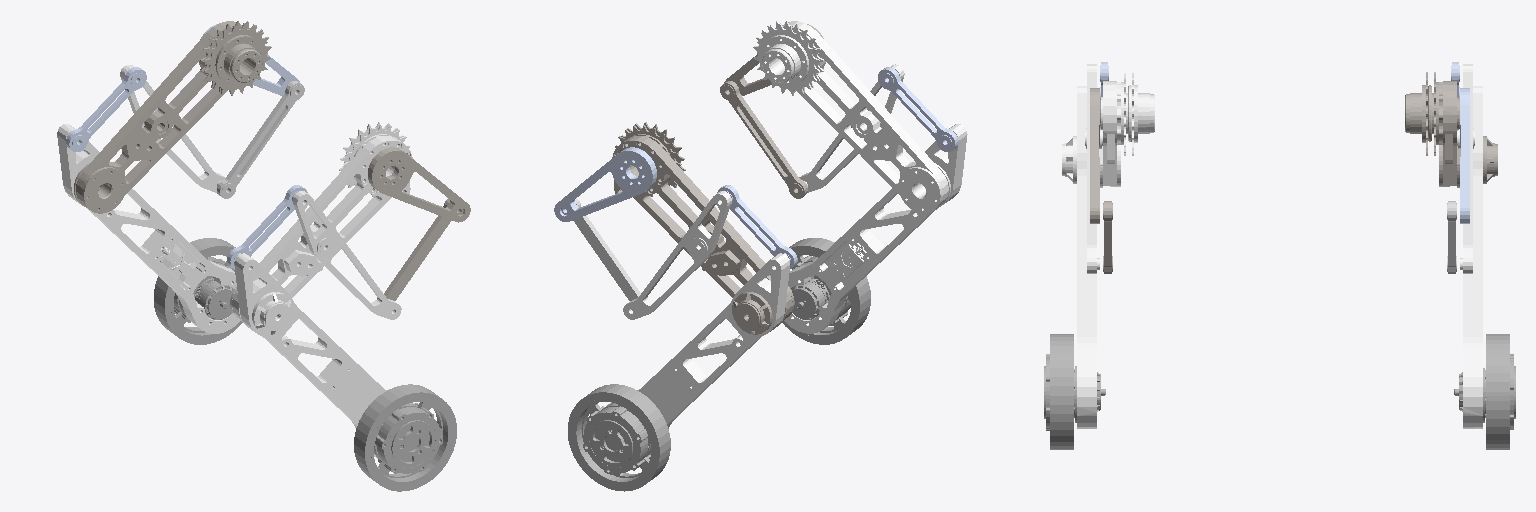
robot.urdf — chuanliantui:
<?xml version='1.0' encoding='utf-8'?>
<robot name="chuanliantui">
  <link name="base_link">
    <inertial>
      <origin xyz="-0.00602877749978922 0.000229808244210893 -0.00910941306824483" rpy="0 0 0" />
      <mass value="9.25503219540507" />
      <inertia ixx="0.018031994741708" ixy="-0.000148435003784316" ixz="3.87836364949803E-05" iyy="0.0362971613813806" iyz="-3.81310518523936E-06" izz="0.04171554748108" />
    </inertial>
    <visual>
      <origin xyz="0 0 0" rpy="0 0 0" />
      <geometry>
        <mesh filename="../meshes/base_link.STL" />
      </geometry>
      <material name="">
        <color rgba="0.866666666666667 0.909803921568627 1 1" />
      </material>
    </visual>
    <collision>
      <origin xyz="0 0 0" rpy="0 0 0" />
      <geometry>
        <mesh filename="../meshes/base_link.STL" />
      </geometry>
    </collision>
  </link>
  <link name="rf0">
    <inertial>
      <origin xyz="-0.0601788822901044 -0.00591211161008393 -0.0476542657670917" rpy="0 0 0" />
      <mass value="0.754587100528089" />
      <inertia ixx="0.000716730172580927" ixy="3.20162224981594E-06" ixz="-0.000594610165872476" iyy="0.00166529768402145" iyz="2.11402979826932E-06" izz="0.00106414599373875" />
    </inertial>
    <visual>
      <origin xyz="0 0 0" rpy="0 0 0" />
      <geometry>
        <mesh filename="../meshes/rf0.STL" />
      </geometry>
      <material name="">
        <color rgba="0.776470588235294 0.756862745098039 0.737254901960784 1" />
      </material>
    </visual>
    <collision>
      <origin xyz="0 0 0" rpy="0 0 0" />
      <geometry>
        <mesh filename="../meshes/rf0.STL" />
      </geometry>
    </collision>
  </link>
  <link name="rf1">
    <inertial>
      <origin xyz="0.0781468381163341 0.0103199473600941 -0.0861497864597749" rpy="0 0 0" />
      <mass value="0.414858419056494" />
      <inertia ixx="0.00263411828738831" ixy="-2.34873576369954E-06" ixz="0.00206928433761022" iyy="0.00449630400849374" iyz="3.25463260232103E-06" izz="0.00188913994404996" />
    </inertial>
    <visual>
      <origin xyz="0 0 0" rpy="0 0 0" />
      <geometry>
        <mesh filename="../meshes/rf1.STL" />
      </geometry>
      <material name="">
        <color rgba="1 1 1 1" />
      </material>
    </visual>
    <collision>
      <origin xyz="0 0 0" rpy="0 0 0" />
      <geometry>
        <mesh filename="../meshes/rf1.STL" />
      </geometry>
    </collision>
  </link>
  <link name="rfwheel">
    <inertial>
      <origin xyz="0.00026594712451275 0.00475914549240675 -0.000406120388827175" rpy="0 0 0" />
      <mass value="0.344781890891785" />
      <inertia ixx="0.000322531613191001" ixy="-3.23871644327253E-08" ixz="-2.34585830896993E-06" iyy="0.000620367874493321" iyz="8.00535601875773E-08" izz="0.000322776964245954" />
    </inertial>
    <visual>
      <origin xyz="0 0 0" rpy="0 0 0" />
      <geometry>
        <mesh filename="../meshes/rfwheel.STL" />
      </geometry>
      <material name="">
        <color rgba="0.752941176470588 0.752941176470588 0.752941176470588 1" />
      </material>
    </visual>
    <collision>
      <origin xyz="0 0 0" rpy="0 0 0" />
      <geometry>
        <mesh filename="../meshes/rfwheel.STL" />
      </geometry>
    </collision>
  </link>
  <link name="lf0">
    <inertial>
      <origin xyz="-0.0601799237964787 0.00591211160955873 -0.0476541773385163" rpy="0 0 0" />
      <mass value="0.754587100528089" />
      <inertia ixx="0.000716730172361521" ixy="-3.1999247832951E-06" ixz="-0.000594610167155209" iyy="0.0016652976840214" iyz="-2.11417392810106E-06" izz="0.00106414599395821" />
    </inertial>
    <visual>
      <origin xyz="0 0 0" rpy="0 0 0" />
      <geometry>
        <mesh filename="../meshes/lf0.STL" />
      </geometry>
      <material name="">
        <color rgba="1 1 1 1" />
      </material>
    </visual>
    <collision>
      <origin xyz="0 0 0" rpy="0 0 0" />
      <geometry>
        <mesh filename="../meshes/lf0.STL" />
      </geometry>
    </collision>
  </link>
  <link name="lf1">
    <inertial>
      <origin xyz="0.0781422112156481 -0.0103199473609228 -0.0861551316847515" rpy="0 0 0" />
      <mass value="0.41485841896248" />
      <inertia ixx="0.00263502302954763" ixy="2.36139743274436E-06" ixz="0.0020692013423577" iyy="0.00449643859324459" iyz="-3.24221462326294E-06" izz="0.00188836978664283" />
    </inertial>
    <visual>
      <origin xyz="0 0 0" rpy="0 0 0" />
      <geometry>
        <mesh filename="../meshes/lf1.STL" />
      </geometry>
      <material name="">
        <color rgba="1 1 1 1" />
      </material>
    </visual>
    <collision>
      <origin xyz="0 0 0" rpy="0 0 0" />
      <geometry>
        <mesh filename="../meshes/lf1.STL" />
      </geometry>
    </collision>
  </link>
  <link name="lfwheel">
    <inertial>
      <origin xyz="0.000400666391116467 -0.0047591454916687 -0.000274095029655363" rpy="0 0 0" />
      <mass value="0.344781890909485" />
      <inertia ixx="0.000322682127933985" ixy="7.93831293033411E-08" ixz="-2.3488987779168E-06" iyy="0.000620367874493372" iyz="-3.39973516878896E-08" izz="0.000322626449503125" />
    </inertial>
    <visual>
      <origin xyz="0 0 0" rpy="0 0 0" />
      <geometry>
        <mesh filename="../meshes/lfwheel.STL" />
      </geometry>
      <material name="">
        <color rgba="0.752941176470588 0.752941176470588 0.752941176470588 1" />
      </material>
    </visual>
    <collision>
      <origin xyz="0 0 0" rpy="0 0 0" />
      <geometry>
        <mesh filename="../meshes/lfwheel.STL" />
      </geometry>
    </collision>
  </link>
  <link name="rf00">
    <inertial>
      <origin xyz="0.0287626107145485 0.00217309925782544 -0.022607956404431" rpy="0 0 0" />
      <mass value="0.108755464967073" />
      <inertia ixx="9.07337436191255E-05" ixy="-6.96415763279463E-08" ixz="8.82820570960974E-05" iyy="0.000222724145523073" iyz="5.4739597109121E-08" izz="0.000133657810110782" />
    </inertial>
    <visual>
      <origin xyz="0 0 0" rpy="0 0 0" />
      <geometry>
        <mesh filename="../meshes/rf00.STL" />
      </geometry>
      <material name="">
        <color rgba="0.866666666666667 0.909803921568627 1 1" />
      </material>
    </visual>
    <collision>
      <origin xyz="0 0 0" rpy="0 0 0" />
      <geometry>
        <mesh filename="../meshes/rf00.STL" />
      </geometry>
    </collision>
  </link>
  <link name="rf01">
    <inertial>
      <origin xyz="-0.0445776517081272 0.000189202771807839 -0.0506861220472558" rpy="0 0 0" />
      <mass value="0.0527615983680123" />
      <inertia ixx="3.44876859008394E-05" ixy="3.91702308347607E-17" ixz="-2.90894186837554E-05" iyy="6.10850450919855E-05" iyz="4.59321589444022E-17" izz="2.69958364471129E-05" />
    </inertial>
    <visual>
      <origin xyz="0 0 0" rpy="0 0 0" />
      <geometry>
        <mesh filename="../meshes/rf01.STL" />
      </geometry>
      <material name="">
        <color rgba="0.894117647058823 0.894117647058823 0.894117647058823 1" />
      </material>
    </visual>
    <collision>
      <origin xyz="0 0 0" rpy="0 0 0" />
      <geometry>
        <mesh filename="../meshes/rf01.STL" />
      </geometry>
    </collision>
  </link>
  <link name="rf02">
    <inertial>
      <origin xyz="-0.0709050947179725 -0.000678963352972933 0.0845120654337574" rpy="0 0 0" />
      <mass value="0.131348519233667" />
      <inertia ixx="0.000258172786754835" ixy="-2.36138957013143E-16" ixz="0.000172494829510738" iyy="0.000390303775067041" iyz="3.50688601948444E-16" izz="0.000133891975919128" />
    </inertial>
    <visual>
      <origin xyz="0 0 0" rpy="0 0 0" />
      <geometry>
        <mesh filename="../meshes/rf02.STL" />
      </geometry>
      <material name="">
        <color rgba="1 1 1 1" />
      </material>
    </visual>
    <collision>
      <origin xyz="0 0 0" rpy="0 0 0" />
      <geometry>
        <mesh filename="../meshes/rf02.STL" />
      </geometry>
    </collision>
  </link>
  <link name="rf03">
    <inertial>
      <origin xyz="-0.0379735551587733 2.94209101525666E-14 -0.0298479330708672" rpy="0 0 0" />
      <mass value="0.0511656410370527" />
      <inertia ixx="1.5644943542751E-05" ixy="2.37509234944243E-17" ixz="-1.77353362160889E-05" iyy="3.9552054508504E-05" iyz="2.05081923242961E-17" izz="2.42681312666208E-05" />
    </inertial>
    <visual>
      <origin xyz="0 0 0" rpy="0 0 0" />
      <geometry>
        <mesh filename="../meshes/rf03.STL" />
      </geometry>
      <material name="">
        <color rgba="0.866666666666667 0.909803921568627 1 1" />
      </material>
    </visual>
    <collision>
      <origin xyz="0 0 0" rpy="0 0 0" />
      <geometry>
        <mesh filename="../meshes/rf03.STL" />
      </geometry>
    </collision>
  </link>
  <link name="lf00">
    <inertial>
      <origin xyz="0.0287626107145481 -0.00217309925803646 -0.0226079564044105" rpy="0 0 0" />
      <mass value="0.108755464967073" />
      <inertia ixx="9.0733743619124E-05" ixy="6.96415771802879E-08" ixz="8.82820570960962E-05" iyy="0.000222724145523072" iyz="-5.47395979690492E-08" izz="0.000133657810110784" />
    </inertial>
    <visual>
      <origin xyz="0 0 0" rpy="0 0 0" />
      <geometry>
        <mesh filename="../meshes/lf00.STL" />
      </geometry>
      <material name="">
        <color rgba="0.776470588235294 0.756862745098039 0.737254901960784 1" />
      </material>
    </visual>
    <collision>
      <origin xyz="0 0 0" rpy="0 0 0" />
      <geometry>
        <mesh filename="../meshes/lf00.STL" />
      </geometry>
    </collision>
  </link>
  <link name="lf01">
    <inertial>
      <origin xyz="-0.0445776517081262 -0.000189202772297906 -0.0506861220472553" rpy="0 0 0" />
      <mass value="0.0527615983680122" />
      <inertia ixx="3.44876859008394E-05" ixy="-3.20402028070599E-16" ixz="-2.90894186837554E-05" iyy="6.10850450919855E-05" iyz="-3.75471789456257E-16" izz="2.69958364471129E-05" />
    </inertial>
    <visual>
      <origin xyz="0 0 0" rpy="0 0 0" />
      <geometry>
        <mesh filename="../meshes/lf01.STL" />
      </geometry>
      <material name="">
        <color rgba="0.776470588235294 0.756862745098039 0.737254901960784 1" />
      </material>
    </visual>
    <collision>
      <origin xyz="0 0 0" rpy="0 0 0" />
      <geometry>
        <mesh filename="../meshes/lf01.STL" />
      </geometry>
    </collision>
  </link>
  <link name="lf02">
    <inertial>
      <origin xyz="-0.0709050947179725 0.000678963353785006 0.084512065433751" rpy="0 0 0" />
      <mass value="0.131348519233667" />
      <inertia ixx="0.000258172786754835" ixy="1.89986445238845E-15" ixz="0.000172494829510738" iyy="0.000390303775067041" iyz="-2.82411420882232E-15" izz="0.000133891975919128" />
    </inertial>
    <visual>
      <origin xyz="0 0 0" rpy="0 0 0" />
      <geometry>
        <mesh filename="../meshes/lf02.STL" />
      </geometry>
      <material name="">
        <color rgba="1 1 1 1" />
      </material>
    </visual>
    <collision>
      <origin xyz="0 0 0" rpy="0 0 0" />
      <geometry>
        <mesh filename="../meshes/lf02.STL" />
      </geometry>
    </collision>
  </link>
  <link name="lf03">
    <inertial>
      <origin xyz="-0.0379735551587734 1.06303854607859E-14 -0.0298479330708674" rpy="0 0 0" />
      <mass value="0.0511656410370527" />
      <inertia ixx="1.56449435427509E-05" ixy="3.51479994645997E-19" ixz="-1.77353362160888E-05" iyy="3.95520545085038E-05" iyz="2.64412501570851E-19" izz="2.42681312666207E-05" />
    </inertial>
    <visual>
      <origin xyz="0 0 0" rpy="0 0 0" />
      <geometry>
        <mesh filename="../meshes/lf03.STL" />
      </geometry>
      <material name="">
        <color rgba="0.866666666666667 0.909803921568627 1 1" />
      </material>
    </visual>
    <collision>
      <origin xyz="0 0 0" rpy="0 0 0" />
      <geometry>
        <mesh filename="../meshes/lf03.STL" />
      </geometry>
    </collision>
  </link>
  <joint name="lf0" type="revolute">
    <origin xyz="-0.0114000000001232 -0.178572975540517 0.0235199999997" rpy="0 0 0" />
    <parent link="base_link" />
    <child link="lf0" />
    <axis xyz="0 -1 0" />
    <limit lower="-100" upper="100" effort="40" velocity="16.8" />
  </joint>
  <joint name="lf1" type="revolute">
    <origin xyz="-0.165102413733819 -0.0115000000014318 -0.129773622047154" rpy="0 0 0" />
    <parent link="lf0" />
    <child link="lf1" />
    <axis xyz="0 -1 0" />
    <limit lower="-0.12" upper="0.77" effort="40" velocity="16.8" />
  </joint>
  <joint name="lfwheel" type="revolute">
    <origin xyz="0.165102413734413 -0.0280000000020695 -0.187726377952426" rpy="0 0 0" />
    <parent link="lf1" />
    <child link="lfwheel" />
    <axis xyz="0 -1 0" />
    <limit effort="3.9" velocity="58.4" />
  </joint>
  <joint name="rf0" type="revolute">
    <origin xyz="-0.0114000000001256 0.176932975540448 0.0235200000001889" rpy="0 0 0" />
    <parent link="base_link" />
    <child link="rf0" />
    <axis xyz="0 1 0" />
    <limit lower="-100" upper="100" effort="40" velocity="16.8" />
  </joint>
  <joint name="rf1" type="revolute">
    <origin xyz="-0.165102413733816 0.0115000000000003 -0.129773622047287" rpy="0 0 0" />
    <parent link="rf0" />
    <child link="rf1" />
    <axis xyz="0 1 0" />
    <limit lower="-0.77" upper="0.12" effort="40" velocity="16.8" />
  </joint>
  <joint name="rfwheel" type="revolute">
    <origin xyz="0.165102413733858 0.027999999999997 -0.187726377953348" rpy="0 0 0" />
    <parent link="rf1" />
    <child link="rfwheel" />
    <axis xyz="0 1 0" />
    <limit effort="3.9" velocity="58.4" />
  </joint>
  <joint name="lf00" type="fixed">
    <origin xyz="-1.498801083243961e-15 -0.01102202445952402 -8.999745393367675e-15" rpy="0 -0 0" />
    <parent link="lf0" />
    <child link="lf00" />
  </joint>
  <joint name="lf01" type="fixed">
    <origin xyz="0.089155303416284 0.011024999999228 -0.0700777559056185" rpy="0 0 0" />
    <parent link="lf00" />
    <child link="lf01" />
  </joint>
  <joint name="lf02" type="fixed">
    <origin xyz="-0.0891553034162555 -0.0165000000011039 -0.101372244094321" rpy="0 0 0" />
    <parent link="lf01" />
    <child link="lf02" />
  </joint>
  <joint name="lf03" type="fixed">
    <origin xyz="-0.115775919900403 0.0130000000017931 0.162856736269227" rpy="0 0 0" />
    <parent link="lf02" />
    <child link="lf03" />
  </joint>
  <joint name="rf00" type="fixed">
    <origin xyz="4.996003610813204e-16 0.011022024459522 1.519964709650878e-14" rpy="0 -0 0" />
    <parent link="rf0" />
    <child link="rf00" />
  </joint>
  <joint name="rf01" type="fixed">
    <origin xyz="0.0891553034162841 -0.011024999999898 -0.0700777559055119" rpy="0 0 0" />
    <parent link="rf00" />
    <child link="rf01" />
  </joint>
  <joint name="rf02" type="fixed">
    <origin xyz="-0.089155 0.0165 -0.10137" rpy="0 0 0" />
    <parent link="rf01" />
    <child link="rf02" />
  </joint>
  <joint name="rf03" type="fixed">
    <origin xyz="-0.115775919900403 -0.0130000000002228 0.162856736269352" rpy="0 0 0" />
    <parent link="rf02" />
    <child link="rf03" />
  </joint>
</robot>

--- Render facts (derived) ---
3 views of the same robot in one strip: view 1: azimuth 30°, elevation 25°; view 2: azimuth 150°, elevation 25°; view 3: azimuth 270°, elevation 25° (orthographic).
Model chuanliantui with 15 links and 14 joints (6 revolute, 8 fixed), rooted at base_link, posed all joints at 0.
Links seen in each view (by area): view 1: rf0, lf0, lfwheel, rf1, lf1, rfwheel, lf00, lf02, rf01, rf03, lf01, rf02 (+2 smaller); view 2: lf0, rf0, rfwheel, lf1, rf1, lfwheel, rf00, rf02, lf01, lf03, rf01, rf03 (+2 smaller); view 3: rf1, lf1, lf0, rf0, lfwheel, rfwheel, rf00, lf00, rf02, lf02, rf01, lf01.
Link boxes in pixels (x1=…): rf0: x1=74, y1=21, x2=271, y2=213; lf0: x1=230, y1=122, x2=412, y2=334; lfwheel: x1=354, y1=384, x2=456, y2=491; rf1: x1=57, y1=124, x2=240, y2=333; lf1: x1=234, y1=253, x2=414, y2=458; rfwheel: x1=154, y1=238, x2=242, y2=344; lf00: x1=368, y1=147, x2=470, y2=222; lf02: x1=293, y1=191, x2=401, y2=319; rf01: x1=217, y1=81, x2=304, y2=198; rf03: x1=66, y1=67, x2=146, y2=151; lf01: x1=384, y1=198, x2=451, y2=300; rf02: x1=120, y1=65, x2=224, y2=192; lf0: x1=753, y1=21, x2=950, y2=213; rf0: x1=612, y1=122, x2=794, y2=334; rfwheel: x1=568, y1=384, x2=670, y2=491; lf1: x1=784, y1=124, x2=967, y2=333; rf1: x1=606, y1=253, x2=789, y2=454; lfwheel: x1=782, y1=238, x2=870, y2=344; rf00: x1=554, y1=147, x2=656, y2=221; rf02: x1=623, y1=191, x2=731, y2=319; lf01: x1=720, y1=81, x2=807, y2=198; lf03: x1=878, y1=67, x2=958, y2=151; rf01: x1=573, y1=198, x2=640, y2=300; rf03: x1=717, y1=185, x2=797, y2=268; rf1: x1=1463, y1=86, x2=1482, y2=428; lf1: x1=1077, y1=86, x2=1096, y2=428; lf0: x1=1062, y1=72, x2=1154, y2=187; rf0: x1=1405, y1=72, x2=1497, y2=187; lfwheel: x1=1044, y1=334, x2=1105, y2=449; rfwheel: x1=1454, y1=334, x2=1515, y2=449; rf00: x1=1460, y1=88, x2=1469, y2=223; lf00: x1=1090, y1=88, x2=1099, y2=223; rf02: x1=1457, y1=64, x2=1474, y2=273; lf02: x1=1085, y1=64, x2=1102, y2=273; rf01: x1=1447, y1=201, x2=1456, y2=273; lf01: x1=1103, y1=201, x2=1112, y2=273.
Size in the robot's own frame: 0.3333 by 0.4865 by 0.4207 metres.
Meshes: 15 distinct files referenced, 14 mesh visuals loaded (14 binary STL); not drawn: 1 (reference not matched to a file when rendering).
